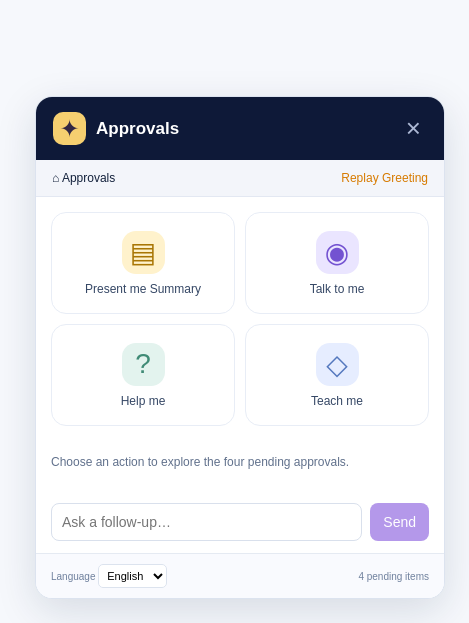
network failure is visible and controls recover
This screenshot has width=469, height=623.
Click the button "? Help me".
click(143, 375)  # box [51,324,235,426]
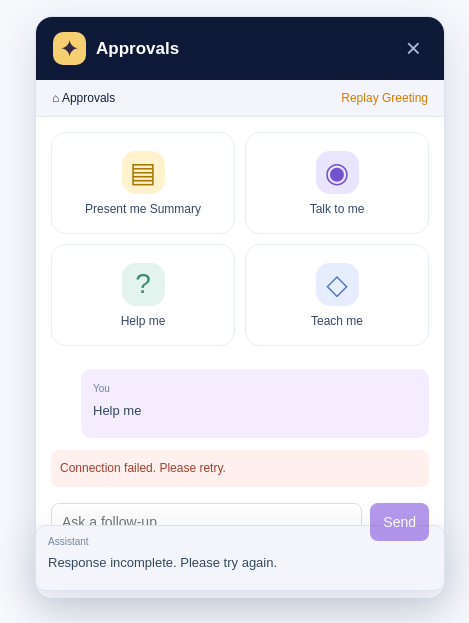
Expected: the button "? Help me" is enabled, [51,244,235,346]
Expected: the message shows "Connection failed", [60,461,226,475]
